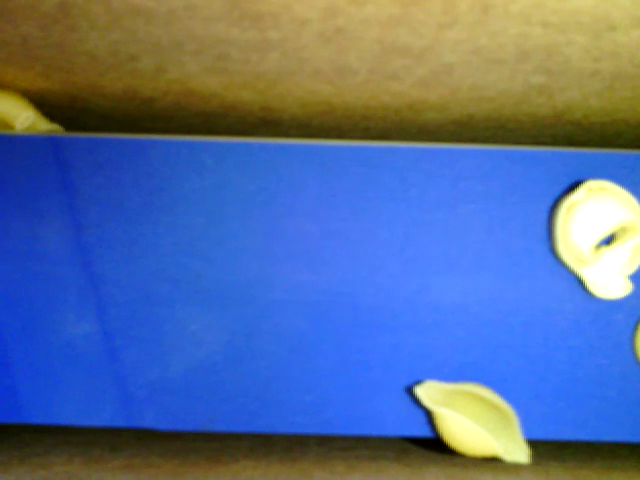elbow: (1, 96, 33, 133)
shell: (409, 375, 530, 466), (1, 90, 63, 134)
tortellini: (549, 179, 639, 300)
